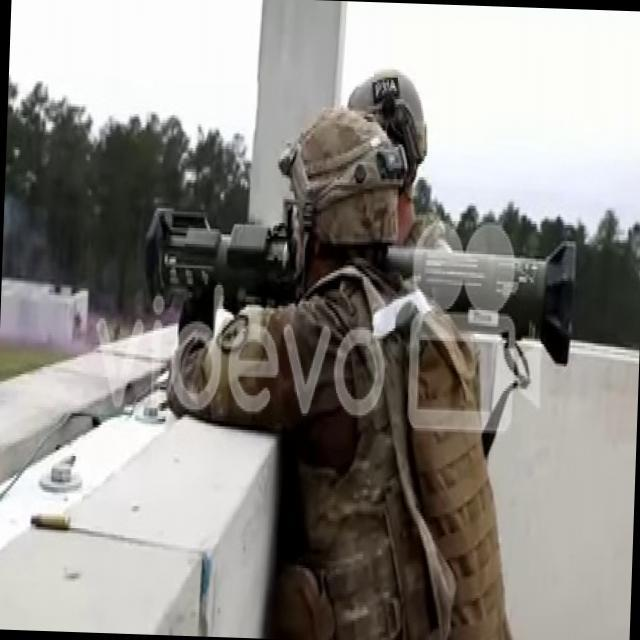rocket: (138, 206, 578, 365)
